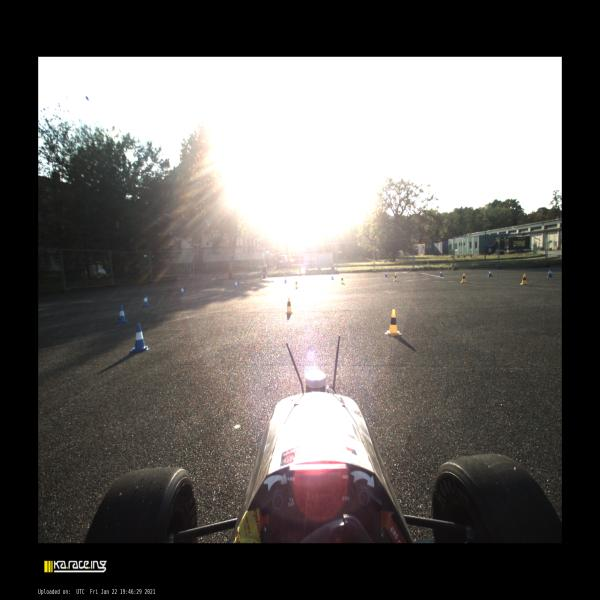blue_cone: (130, 323, 151, 353), (117, 305, 128, 323), (142, 294, 150, 306), (547, 268, 553, 278), (180, 286, 184, 295), (234, 280, 238, 288), (488, 269, 492, 276), (439, 270, 443, 276), (284, 275, 286, 284), (331, 273, 334, 279), (384, 271, 387, 277)
yellow_cone: (384, 309, 402, 336), (285, 298, 293, 314), (520, 274, 528, 285), (461, 273, 466, 283), (394, 273, 398, 281), (295, 280, 298, 290), (341, 276, 343, 283)
